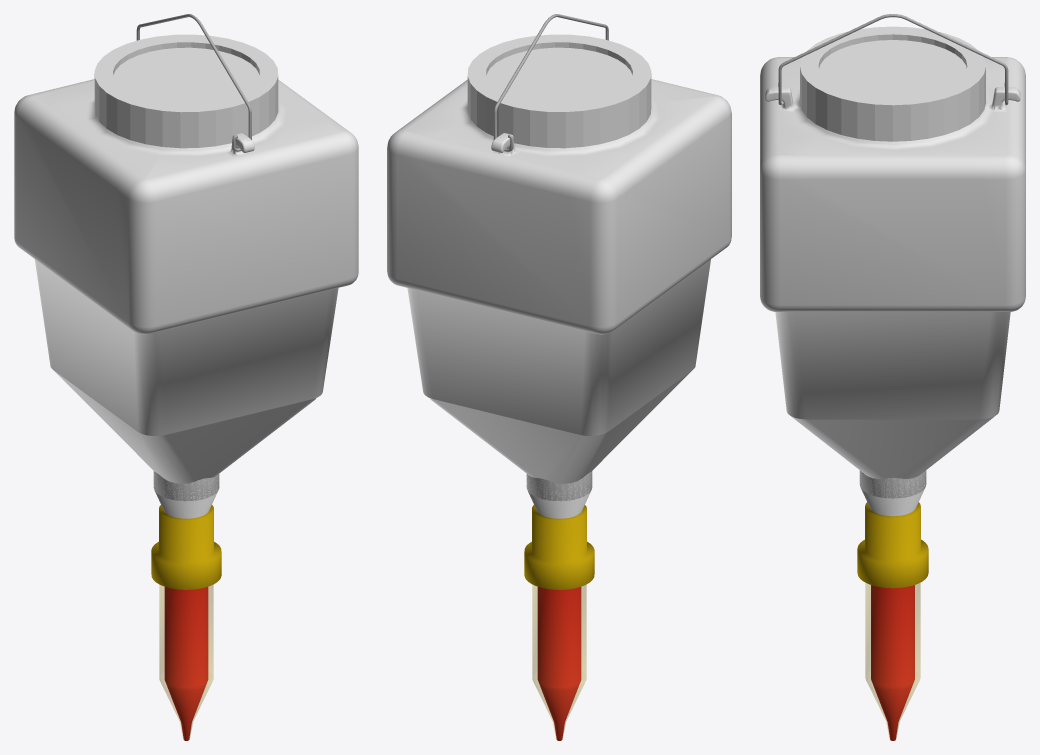
Rendered from Sauce Udder.fbx.
The picture shows the model from 3 angles, left to right: view 1: azimuth 30°, elevation 25°; view 2: azimuth 150°, elevation 25°; view 3: azimuth 270°, elevation 25°; orthographic projection.
Parts seen in each view (by area): view 1: Bottle, Lid, Tube, Sauce Tube, Hanger; view 2: Bottle, Lid, Tube, Sauce Tube, Hanger; view 3: Bottle, Lid, Tube, Sauce Tube, Hanger.
Boxes of the visible parts, x1=… form: Bottle: x1=14, y1=79, x2=358, y2=483; Lid: x1=94, y1=34, x2=278, y2=148; Tube: x1=151, y1=471, x2=221, y2=740; Sauce Tube: x1=164, y1=587, x2=208, y2=740; Hanger: x1=136, y1=14, x2=251, y2=151; Bottle: x1=387, y1=79, x2=731, y2=483; Lid: x1=467, y1=34, x2=651, y2=148; Tube: x1=524, y1=471, x2=594, y2=740; Sauce Tube: x1=537, y1=587, x2=581, y2=740; Hanger: x1=493, y1=14, x2=608, y2=151; Bottle: x1=760, y1=57, x2=1025, y2=478; Lid: x1=800, y1=26, x2=985, y2=141; Tube: x1=857, y1=470, x2=928, y2=740; Sauce Tube: x1=871, y1=585, x2=914, y2=740; Hanger: x1=778, y1=14, x2=1008, y2=104.
Bounding box in the file's own units: 2 × 6.05 × 2.
